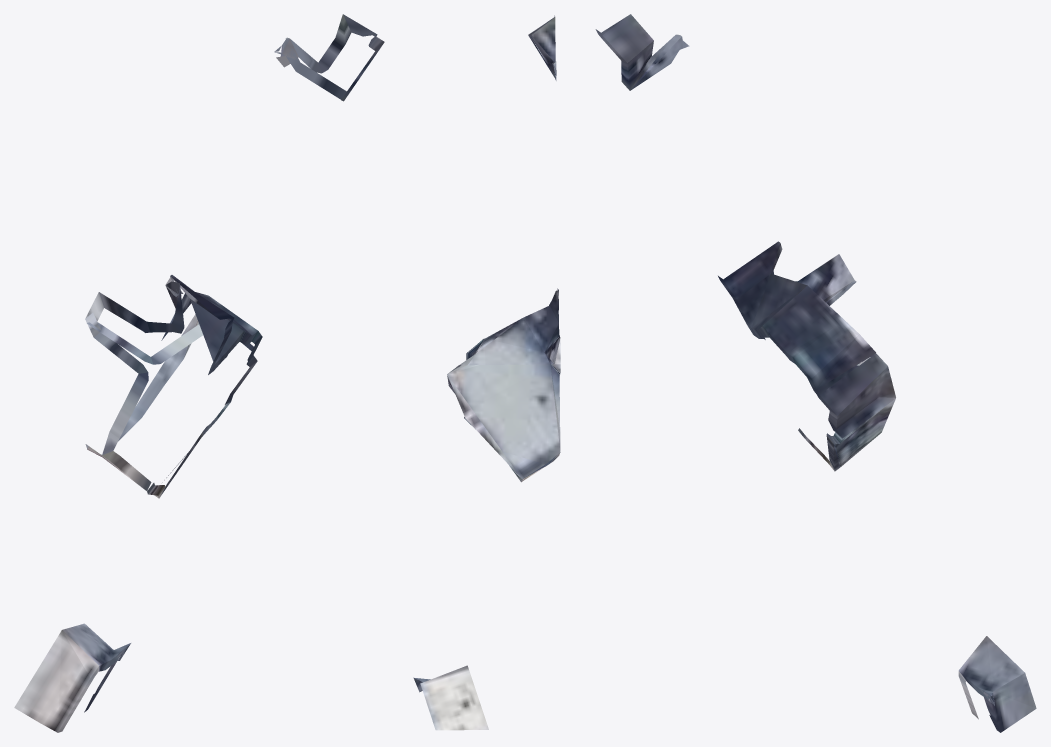
3 renders of one model, left to right at view 1: azimuth 30°, elevation 25°; view 2: azimuth 150°, elevation 25°; view 3: azimuth 270°, elevation 25°, orthographic. The views are drawn at different scales.
Bounding box in the file's own units: 14.92 × 68.88 × 37.16.
1 material, 1 textured.
